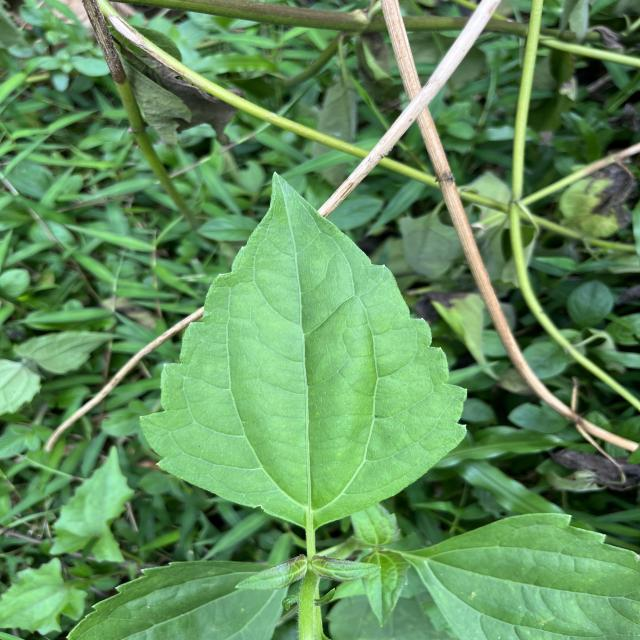Chromolaena odorata: (134, 167, 474, 532)
